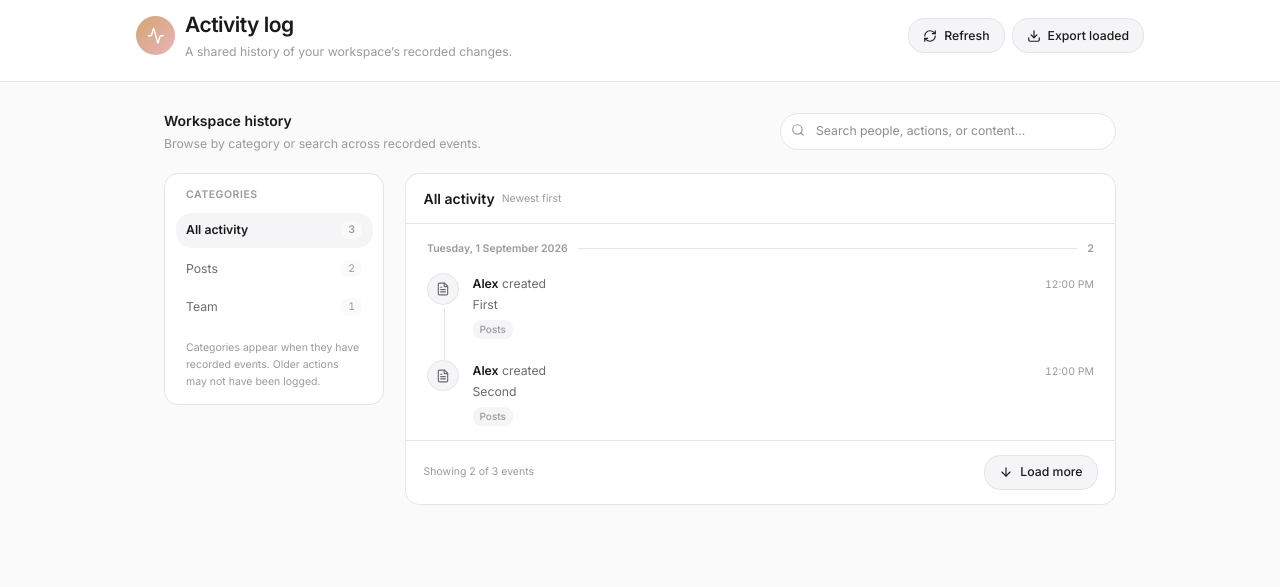
it: Activity page › appends subsequent pages using the actual loaded offset and removes exhausted pagination
This screenshot has width=1280, height=587.
Expected: the text "First" is shown, [472,297,498,312]
Click the button "Load more" at coordinates (1041, 472), box [984,454,1098,490]
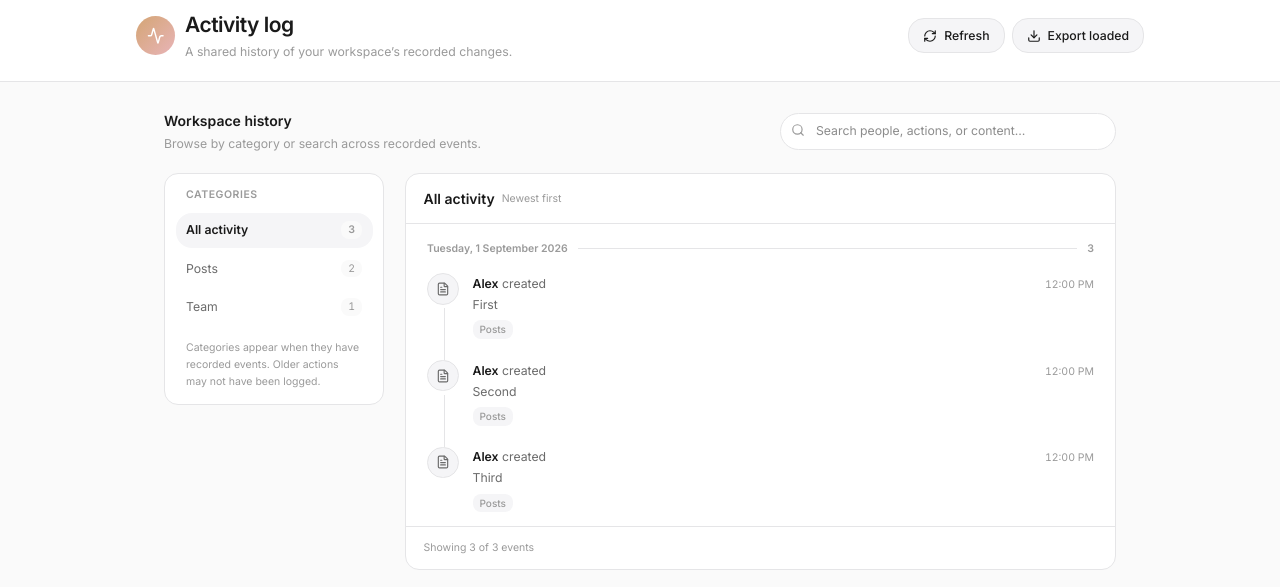
Expected: the text "Third" is shown, [472,470,502,485]
Expected: the number of list items is 3, [427,273,1094,360]; [427,360,1094,447]; [427,446,1094,519]
Expected: the message reads "Showing 3 of 3 events", [424,541,534,555]
